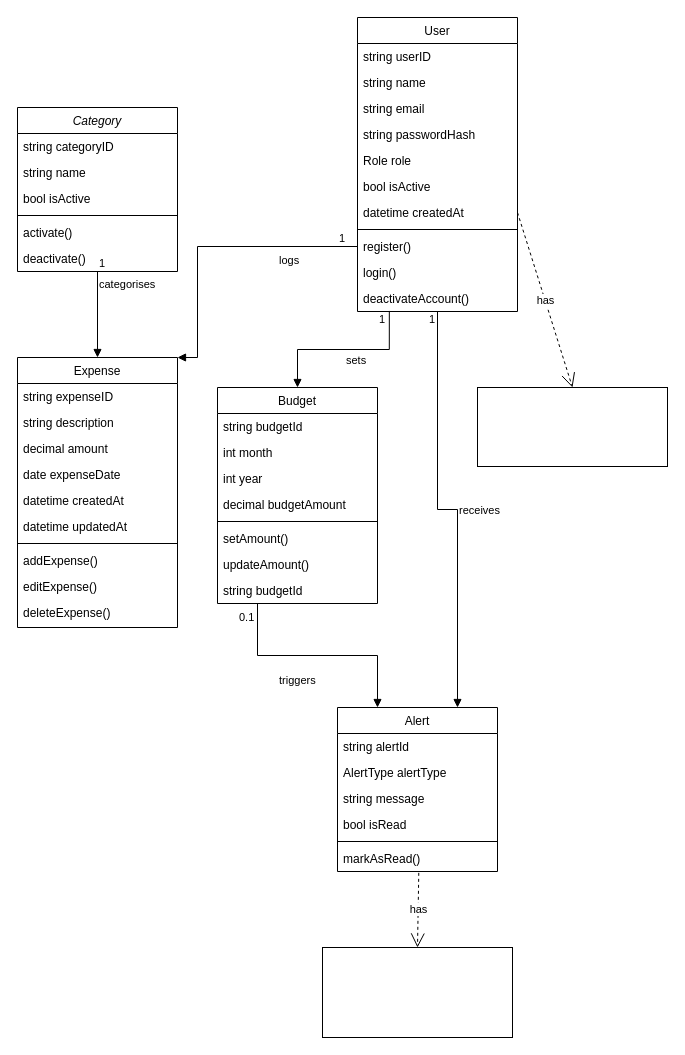
This 685x1055 diagram has some shape labels left out. Here are the shapes that lost their labels. From the top down, the centre of each, then its label:
[572,426]: <<enumeration>> Role USER ADMIN
[417,992]: <<enumeration>> AlertType WARNING_80 EXCEEDED_100 PREDICTIVE
